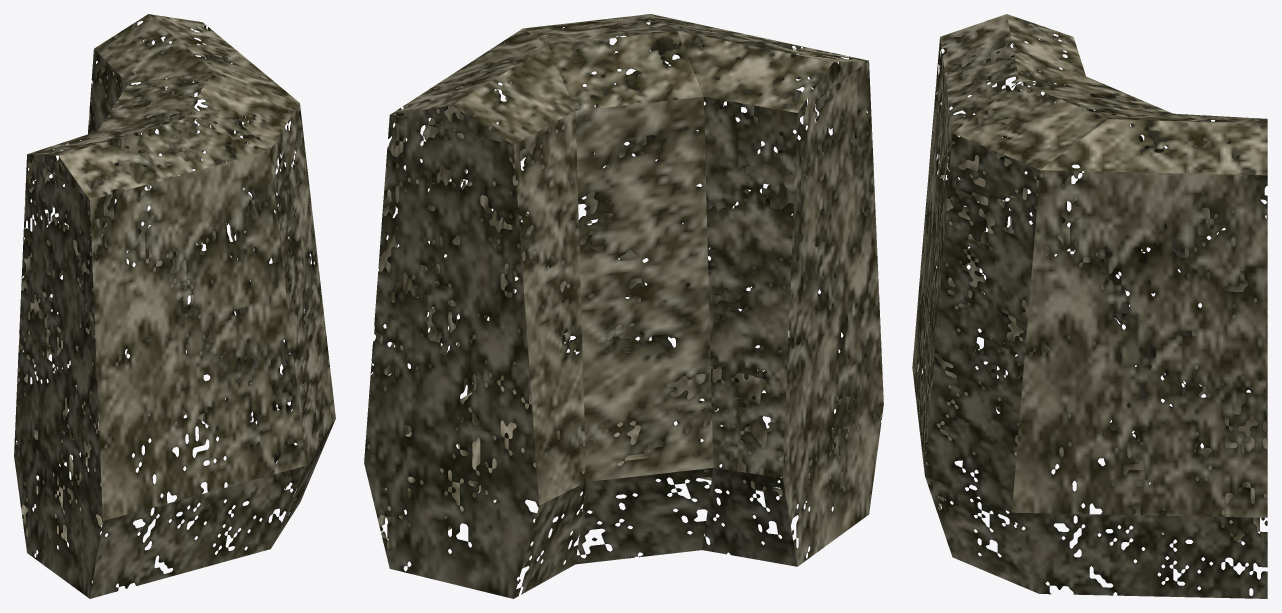
The model's file is bush_long_round_corner_dead.fbx.
3 renders of one model, left to right at view 1: azimuth 30°, elevation 25°; view 2: azimuth 150°, elevation 25°; view 3: azimuth 270°, elevation 25°, orthographic. The views are drawn at different scales.
Parts seen in each view (by area): view 1: bush_long_round_corner_dead; view 2: bush_long_round_corner_dead; view 3: bush_long_round_corner_dead.
Boxes of the visible parts, left/top/right/bottom form: bush_long_round_corner_dead: left=14, top=14, right=335, bottom=598; bush_long_round_corner_dead: left=364, top=14, right=883, bottom=598; bush_long_round_corner_dead: left=912, top=14, right=1267, bottom=598.
Bounding box in the file's own units: 135 × 188 × 135.
Materials: 1 (1 with a texture image).
